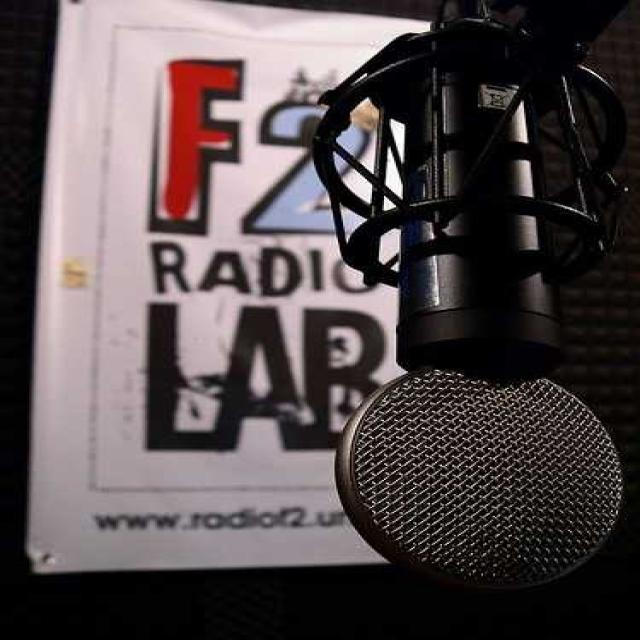microphone: (340, 16, 632, 592)
